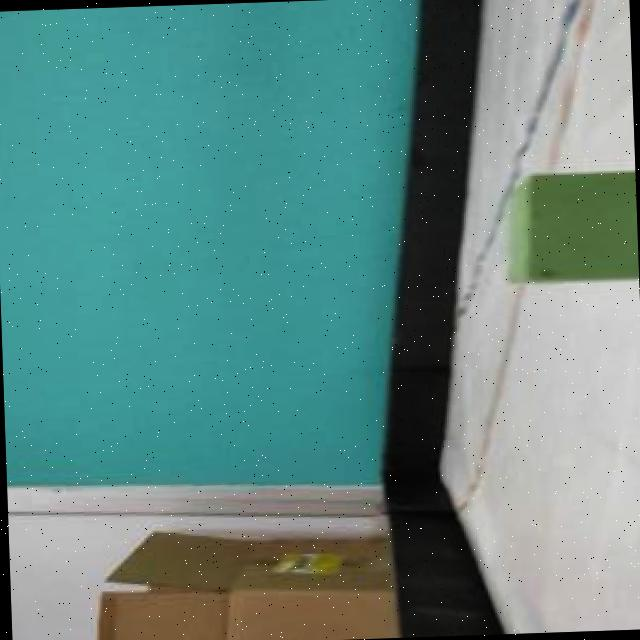greenbox: (500, 169, 639, 290)
